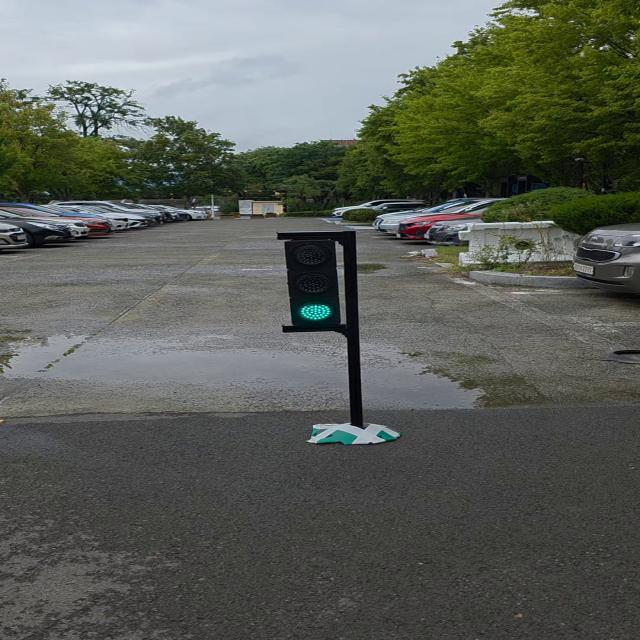green: (284, 233, 357, 332)
